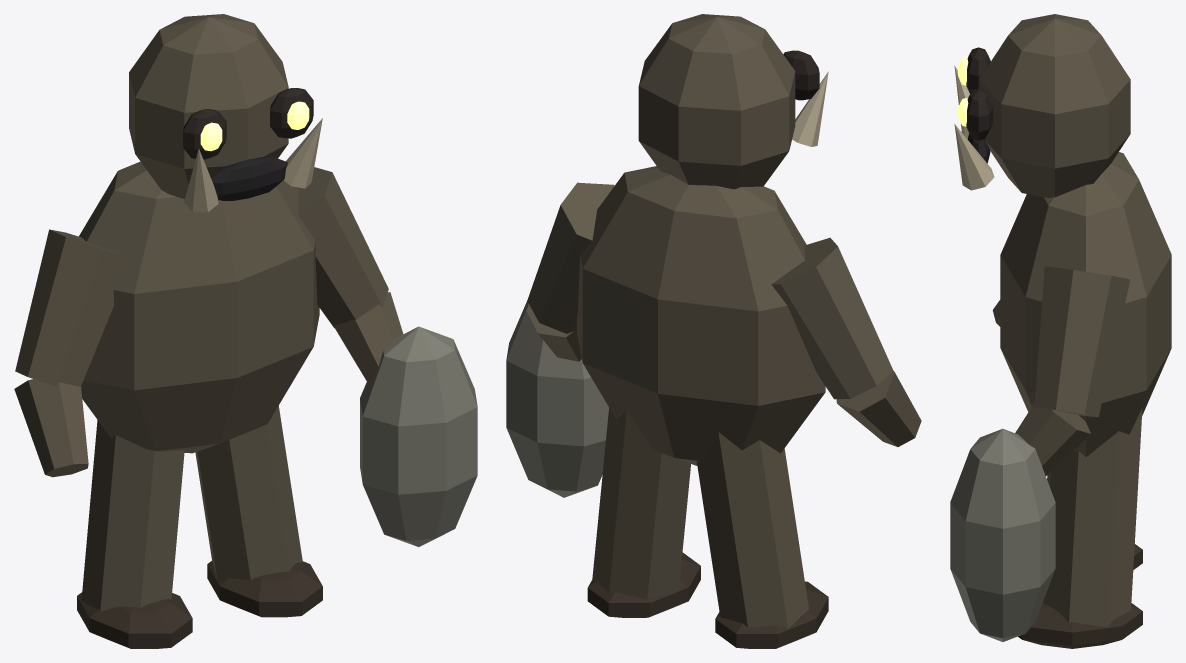
Rendered from fauna-stonefang_ogre.glb.
3 renders of one model, left to right at view 1: azimuth 30°, elevation 25°; view 2: azimuth 150°, elevation 25°; view 3: azimuth 270°, elevation 25°, orthographic. The views are drawn at different scales.
Visible parts, largest first — view 1: Fauna_stonefang_ogre; view 2: Fauna_stonefang_ogre; view 3: Fauna_stonefang_ogre.
Boxes of the visible parts, bbox=[...] form: Fauna_stonefang_ogre: bbox=[14, 14, 477, 648]; Fauna_stonefang_ogre: bbox=[506, 14, 921, 648]; Fauna_stonefang_ogre: bbox=[950, 14, 1171, 648].
Bounding box in the file's own units: 1.36 × 1.88 × 0.6394.
